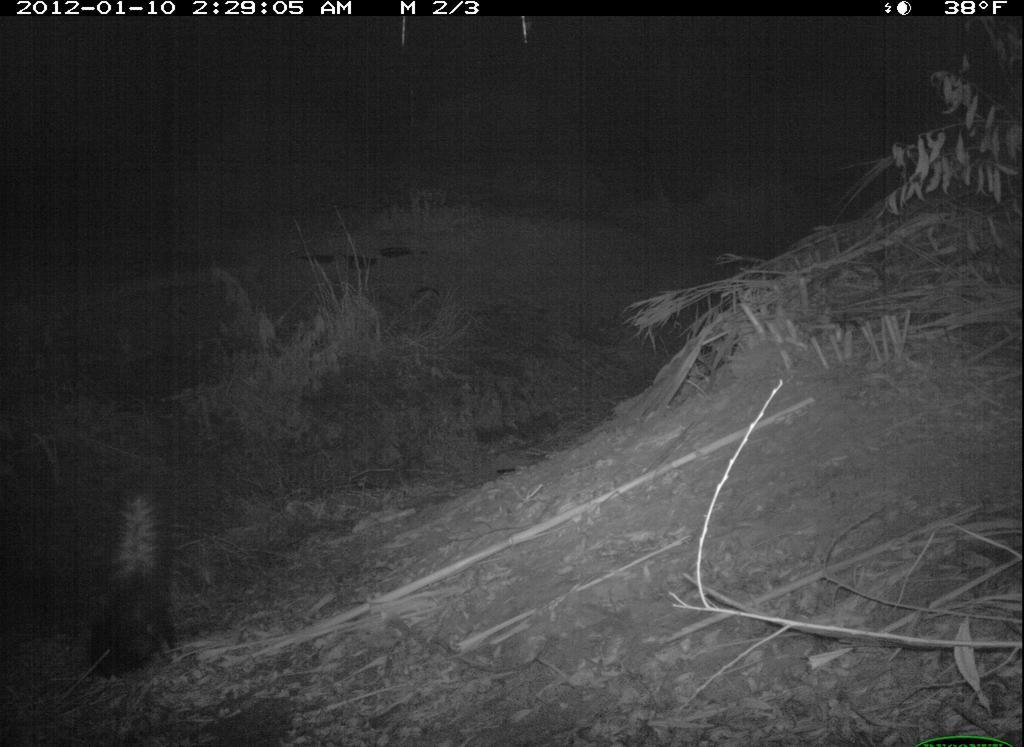skunk: (82, 473, 194, 697)
